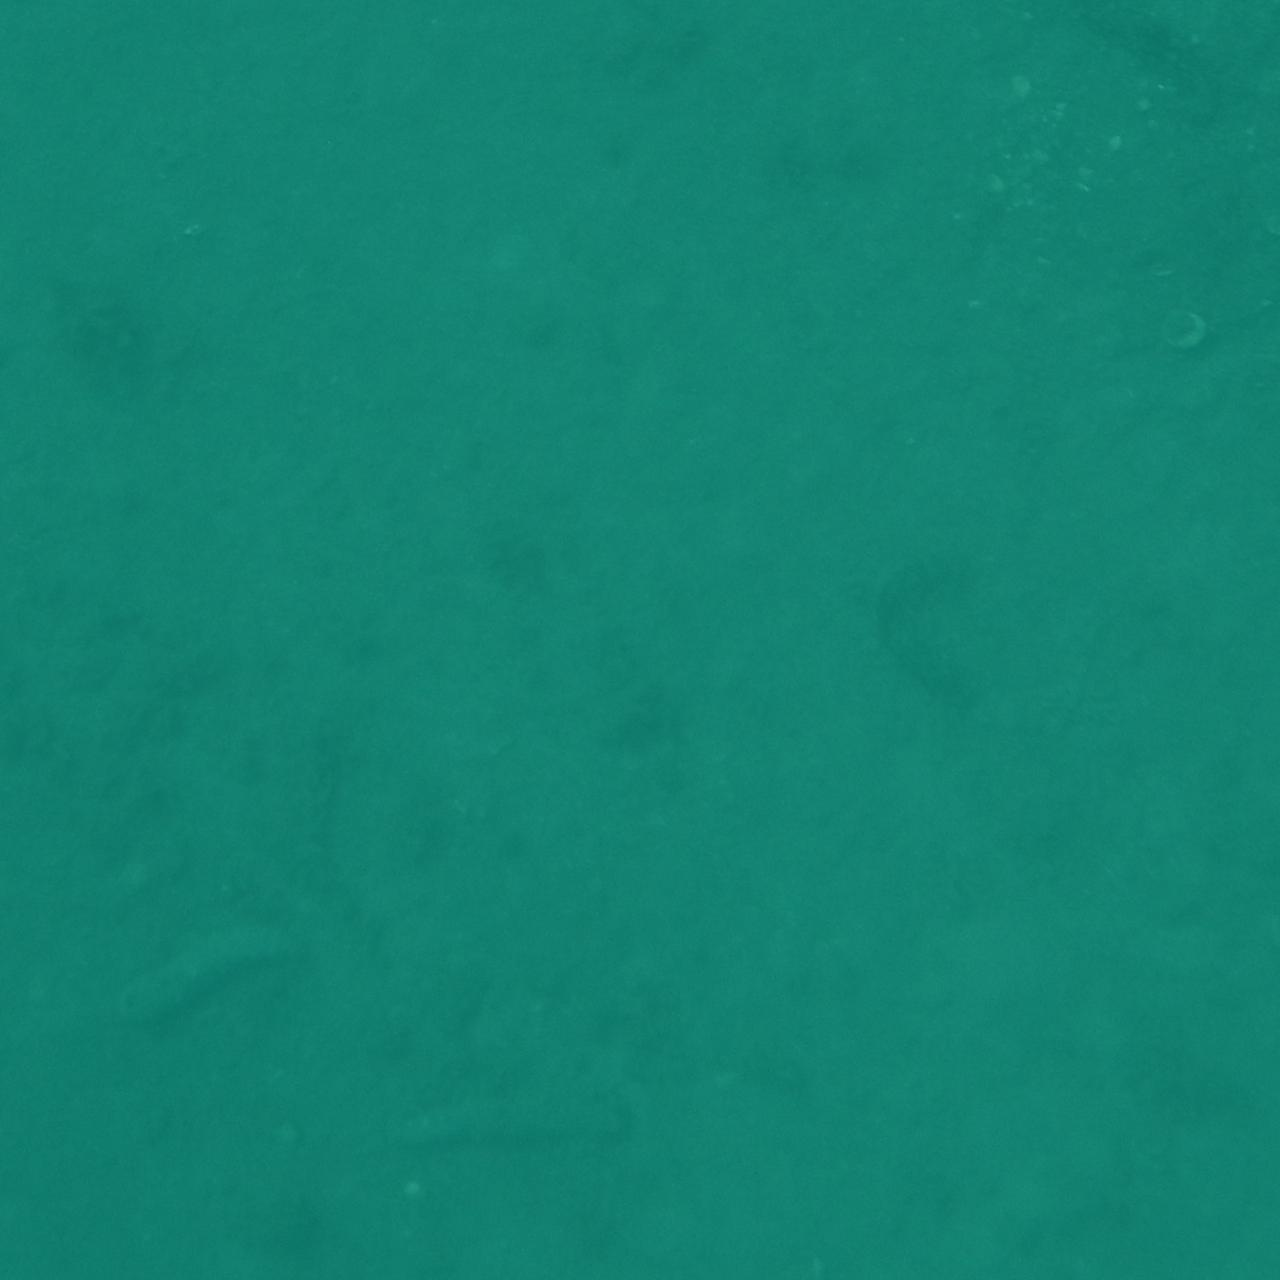Holothuria tubulosa: (354, 1047, 675, 1193), (821, 513, 1014, 721), (97, 879, 338, 1046), (93, 1153, 286, 1280), (779, 0, 940, 130), (1178, 0, 1280, 97), (0, 1183, 75, 1280)
